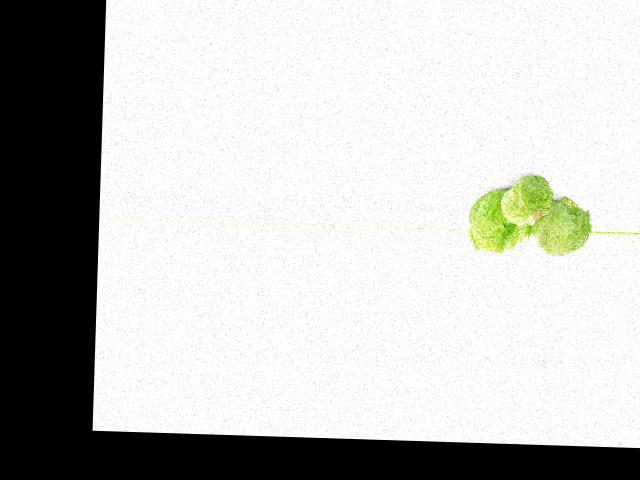lettuce: (470, 192, 524, 250)
